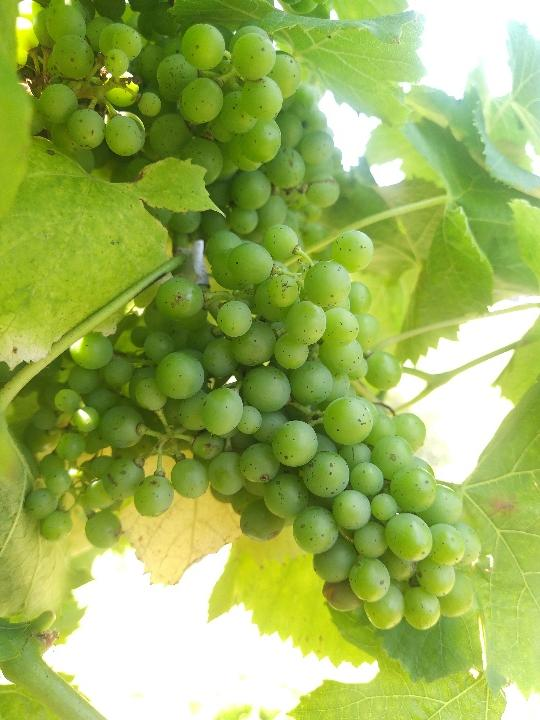grape: (21, 226, 485, 633)
